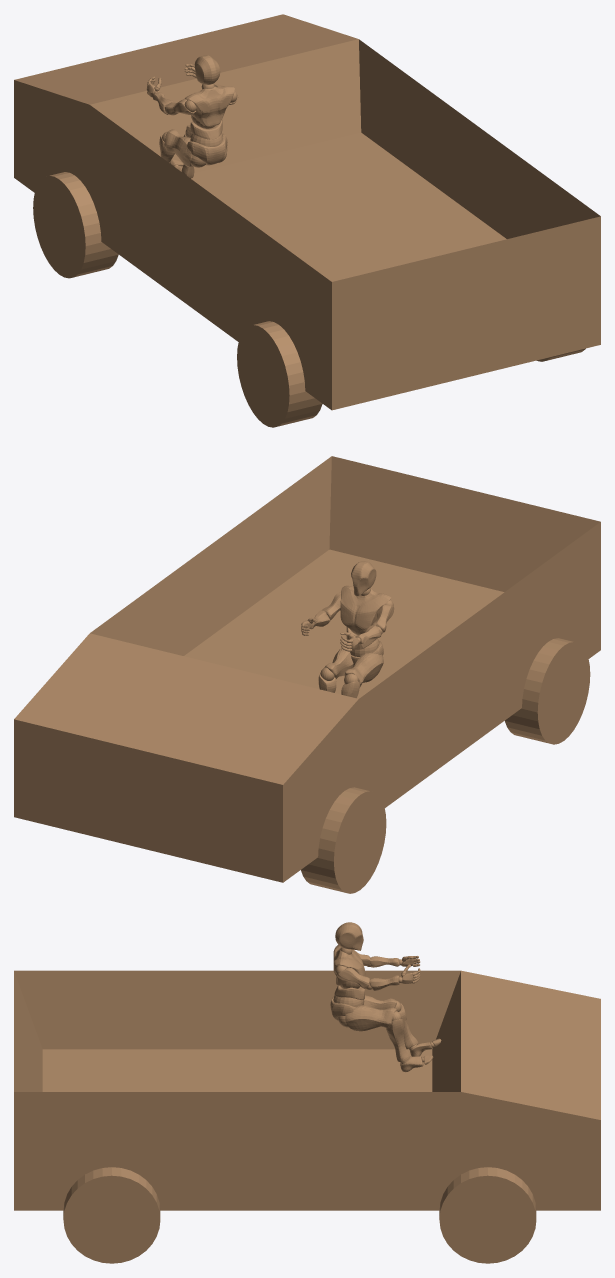
The model's file is four-wheel.glb.
3 renders of one model, top to bottom at view 1: azimuth 30°, elevation 25°; view 2: azimuth 150°, elevation 25°; view 3: azimuth 270°, elevation 25°, orthographic. The views are drawn at different scales.
Visible parts, largest first — view 1: xier120.four-wheel.mesh.003, xier120.four-wheel.mesh.001, xier120.four-wheel.mesh.006, xier120.four-wheel.mesh.002, xier120.four-wheel.mesh.004; view 2: xier120.four-wheel.mesh.003, xier120.four-wheel.mesh.001, xier120.four-wheel.mesh.006, xier120.four-wheel.mesh.002, xier120.four-wheel.mesh.004; view 3: xier120.four-wheel.mesh.003, xier120.four-wheel.mesh.000, xier120.four-wheel.mesh.005, xier120.four-wheel.mesh.002, xier120.four-wheel.mesh.004.
Part boxes in pixels (x1=…): xier120.four-wheel.mesh.003: x1=14, y1=14, x2=600, y2=410; xier120.four-wheel.mesh.001: x1=33, y1=172, x2=118, y2=278; xier120.four-wheel.mesh.006: x1=237, y1=321, x2=322, y2=427; xier120.four-wheel.mesh.002: x1=146, y1=55, x2=237, y2=179; xier120.four-wheel.mesh.004: x1=147, y1=64, x2=237, y2=178; xier120.four-wheel.mesh.003: x1=14, y1=456, x2=600, y2=882; xier120.four-wheel.mesh.001: x1=301, y1=787, x2=386, y2=893; xier120.four-wheel.mesh.006: x1=505, y1=638, x2=590, y2=744; xier120.four-wheel.mesh.002: x1=301, y1=561, x2=394, y2=698; xier120.four-wheel.mesh.004: x1=301, y1=588, x2=393, y2=684; xier120.four-wheel.mesh.003: x1=14, y1=970, x2=600, y2=1210; xier120.four-wheel.mesh.000: x1=439, y1=1167, x2=536, y2=1263; xier120.four-wheel.mesh.005: x1=63, y1=1167, x2=160, y2=1263; xier120.four-wheel.mesh.002: x1=330, y1=922, x2=441, y2=1072; xier120.four-wheel.mesh.004: x1=333, y1=947, x2=434, y2=1063.
Size of the model in its own units: 2.85 by 2.29 by 5.16.
